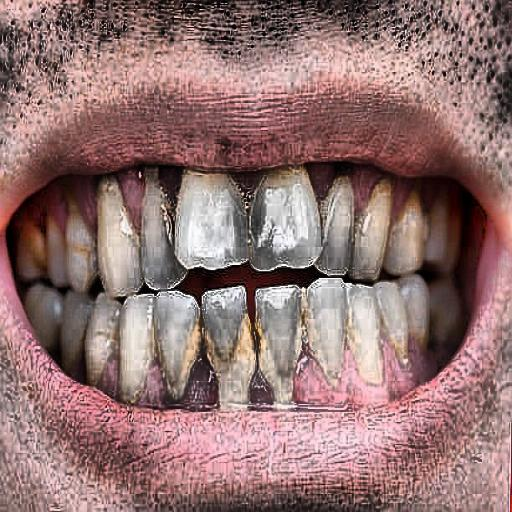Calculus: (70, 284, 430, 418), (47, 158, 180, 273)
